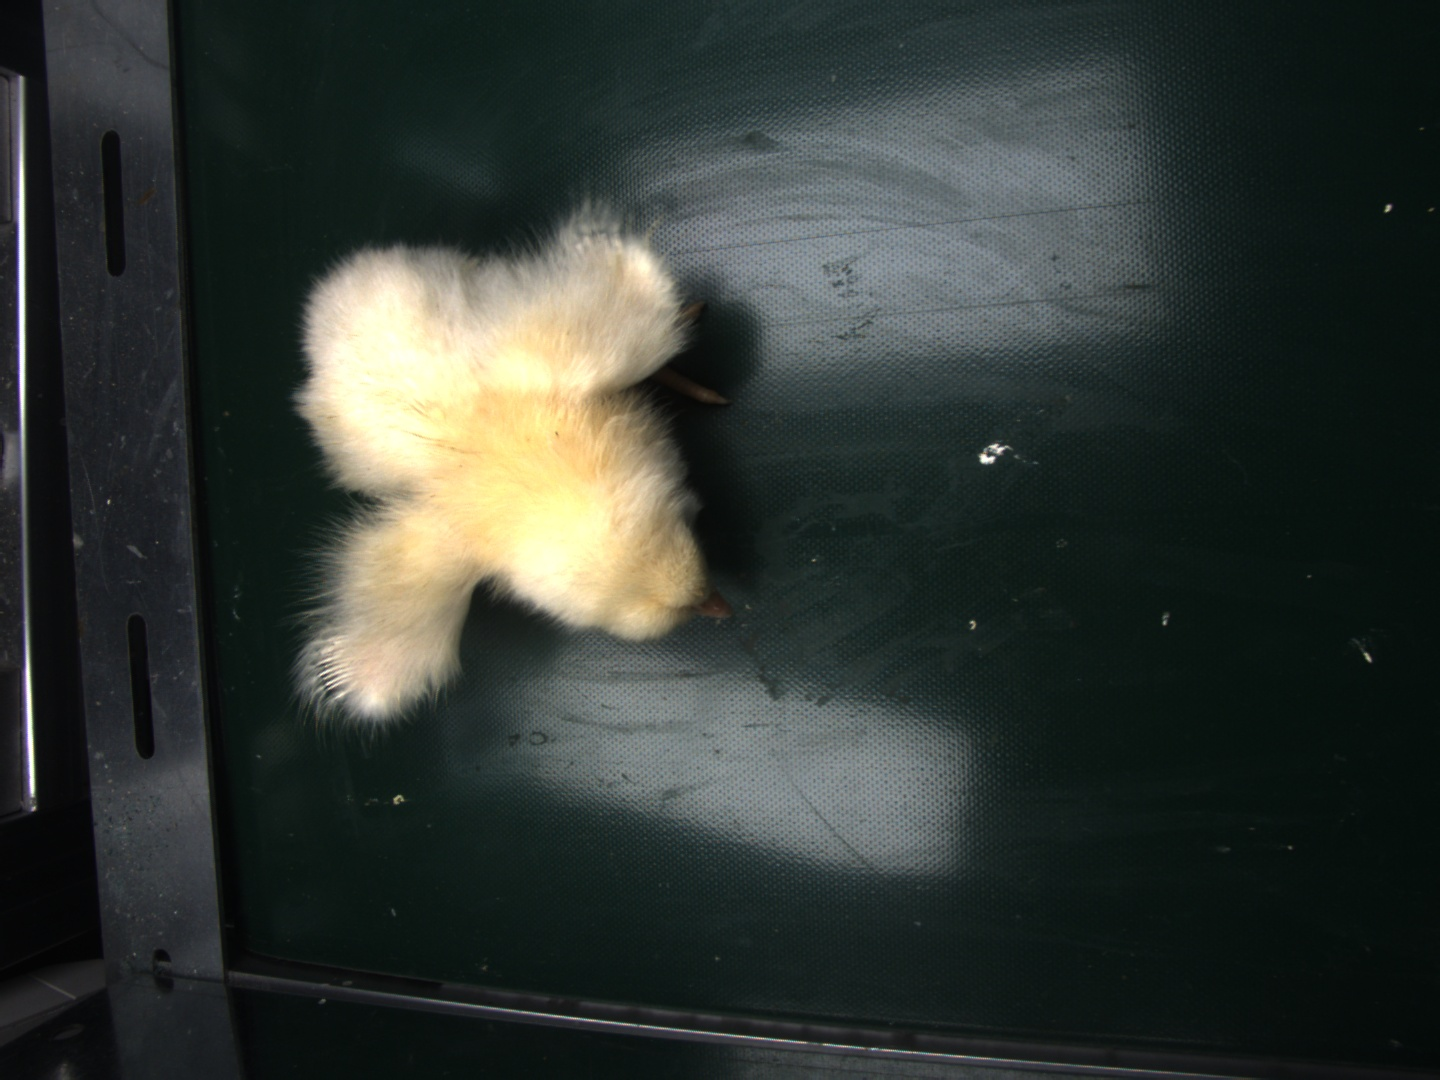male: (306, 634, 365, 704)
